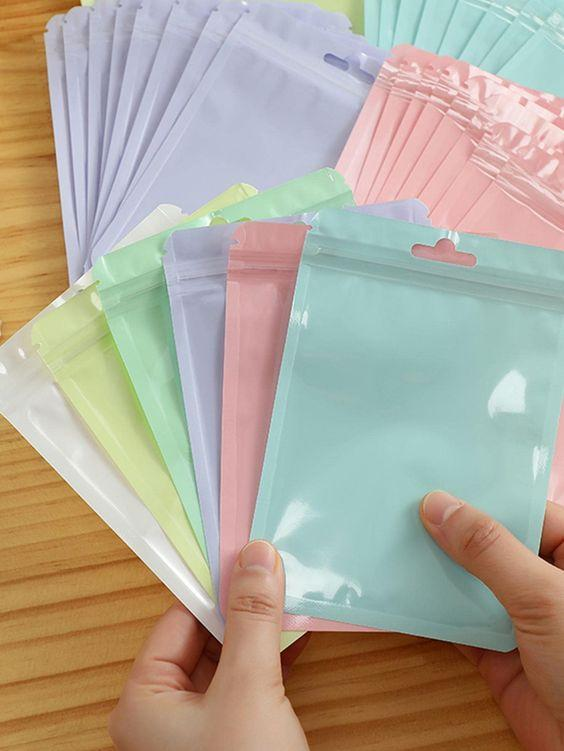LDPE: (0, 166, 564, 661)
